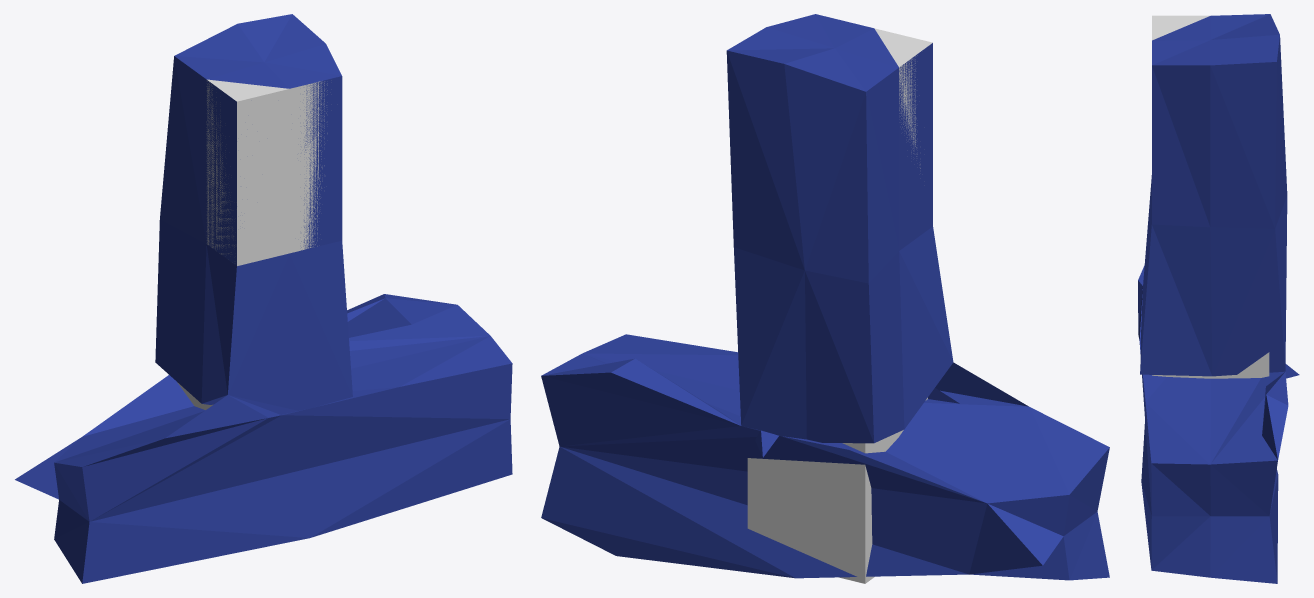
File: Simple Block.dae
The picture shows the model from 3 angles, left to right: view 1: azimuth 30°, elevation 25°; view 2: azimuth 150°, elevation 25°; view 3: azimuth 270°, elevation 25°; orthographic projection. The views are drawn at different scales.
Parts seen in each view (by area): view 1: Cube, Cube.001; view 2: Cube, Cube.001; view 3: Cube, Cube.001.
Part boxes in pixels (box(x1,y1,x2,y2)): Cube: box(15, 14, 512, 583); Cube.001: box(177, 79, 327, 409); Cube: box(541, 14, 1109, 580); Cube.001: box(747, 28, 932, 583); Cube: box(1138, 14, 1299, 583); Cube.001: box(1152, 15, 1269, 378).
Bounding box in the file's own units: 8.49 × 2.76 × 8.81.
